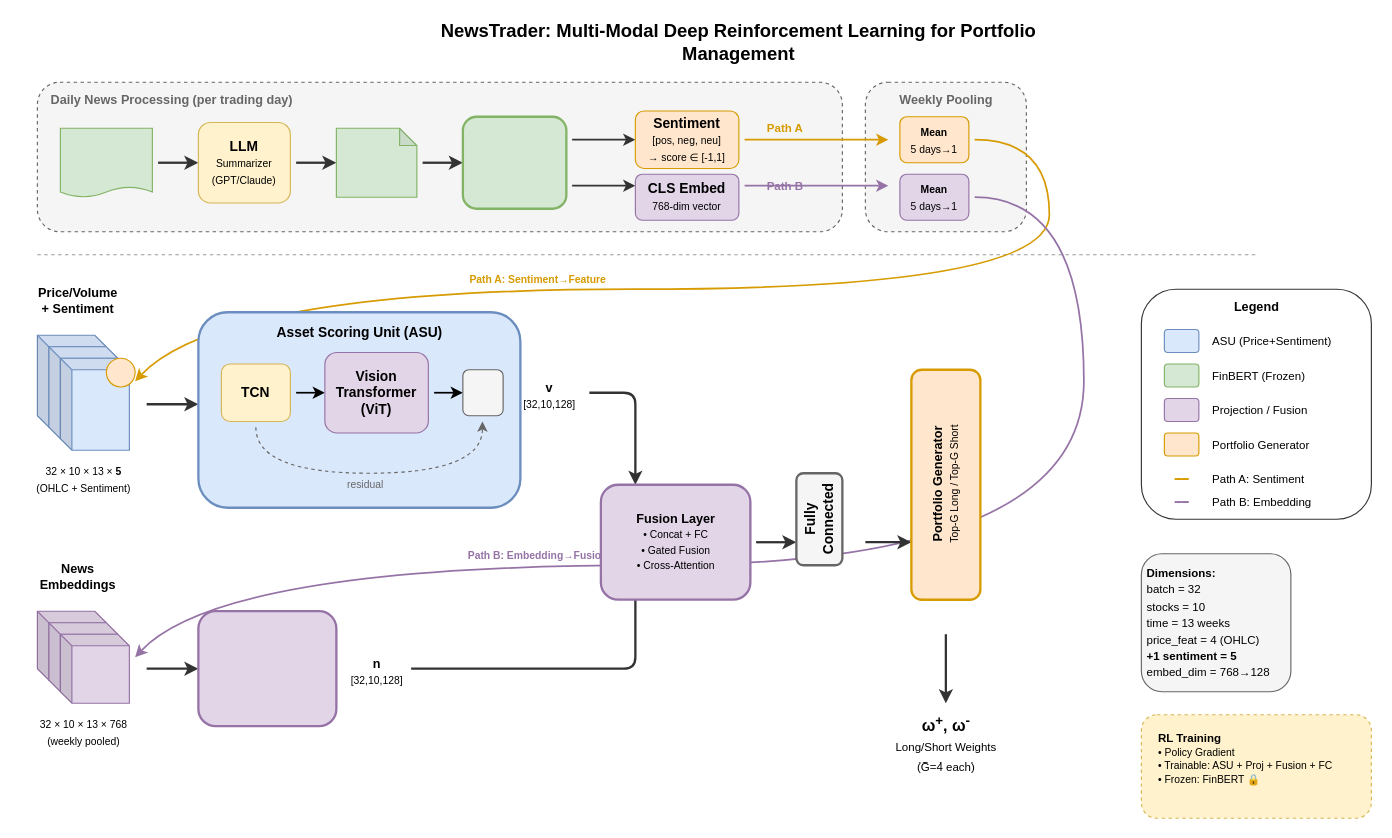
The diagram is 1392 pixels wide and 838 high, and some of its shapes have lost their labels. Here are the shapes that lost their labels. From the top down, the box of each, then its label:
(59, 127, 152, 197): Daily News (Multiple articles)
(335, 127, 417, 197): 1-Sentence Summary
(461, 115, 567, 209): FinBERT (Frozen) 🔒
(105, 357, 135, 387): +S
(462, 369, 503, 416): FC
(197, 610, 337, 727): Projection Linear: 768→128 (trainable)
